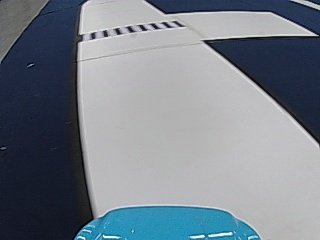CrossWalk: (88, 18, 180, 40)
